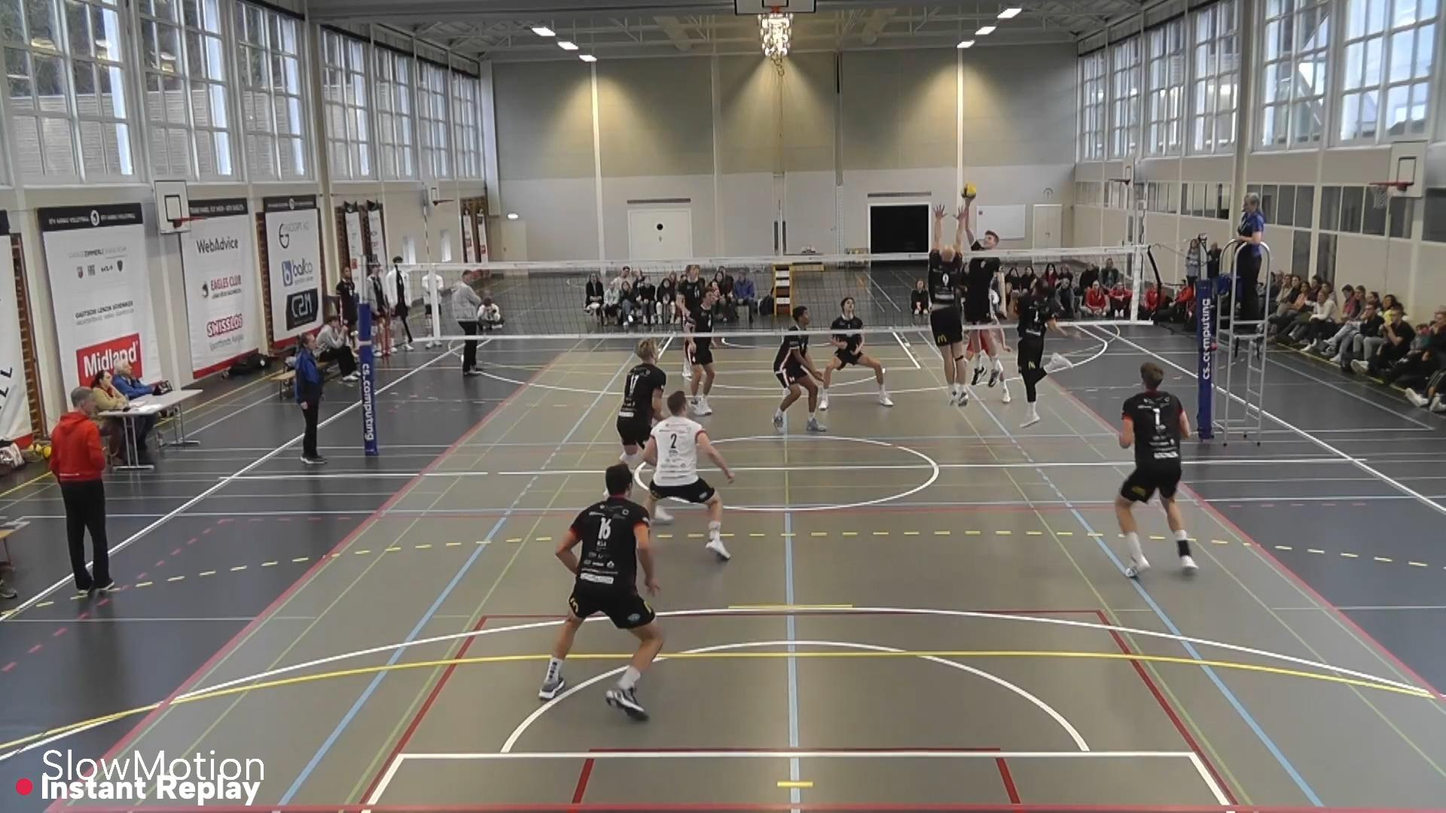attacco: (960, 194, 1011, 393)
muro: (925, 203, 969, 411)
